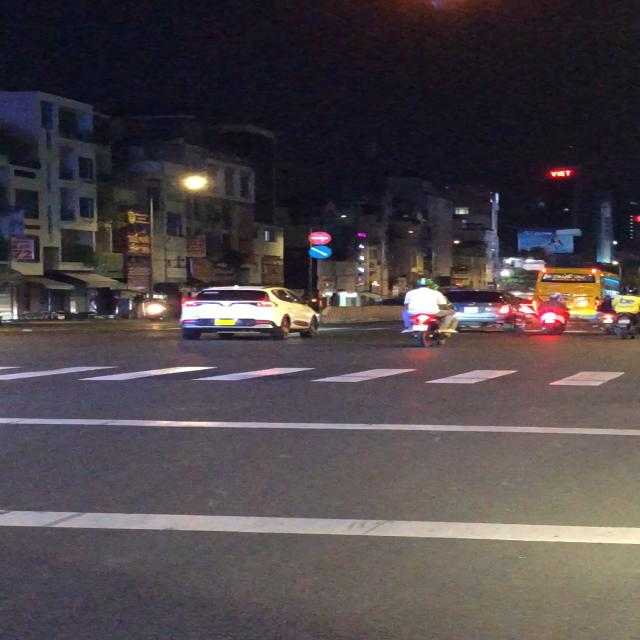Bien bao cam di nguoc chieu: (307, 230, 334, 245)
Bien bao huong phai di vong chuong ngai vat: (307, 244, 335, 260)
